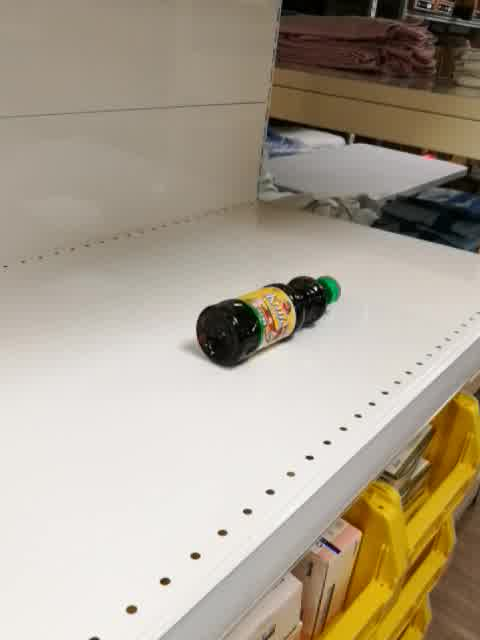cookingoil: (194, 273, 347, 371)
